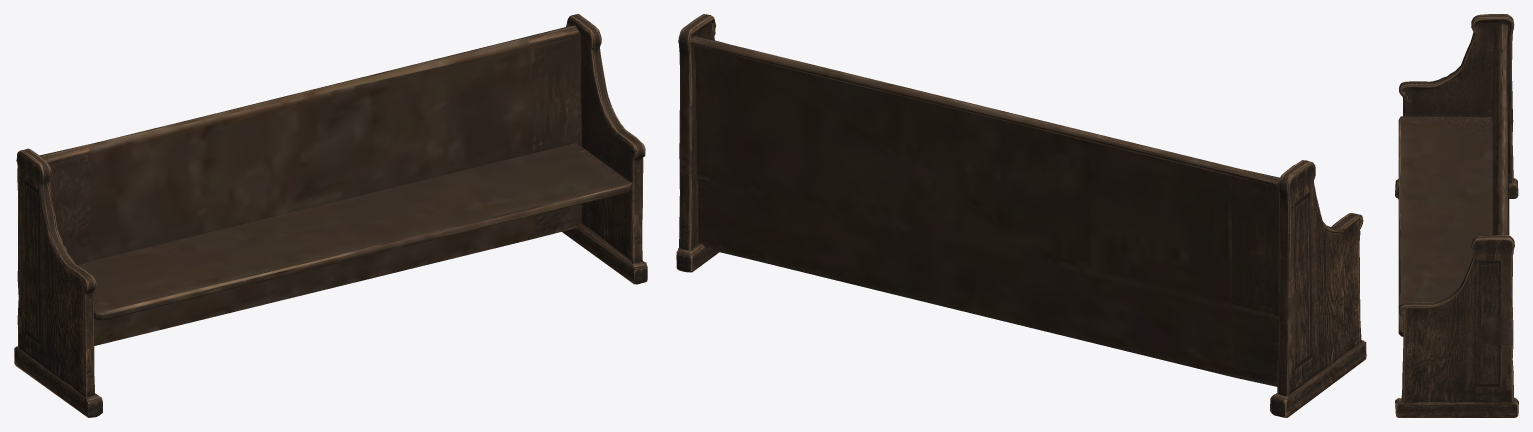
The model's file is chapel_pew.glb.
The picture shows the model from 3 angles, left to right: view 1: azimuth 30°, elevation 25°; view 2: azimuth 150°, elevation 25°; view 3: azimuth 270°, elevation 25°; orthographic projection. The views are drawn at different scales.
Size of the model in its own units: 2.53 by 0.95 by 0.5913.
Materials: 1 (1 with a texture image).
